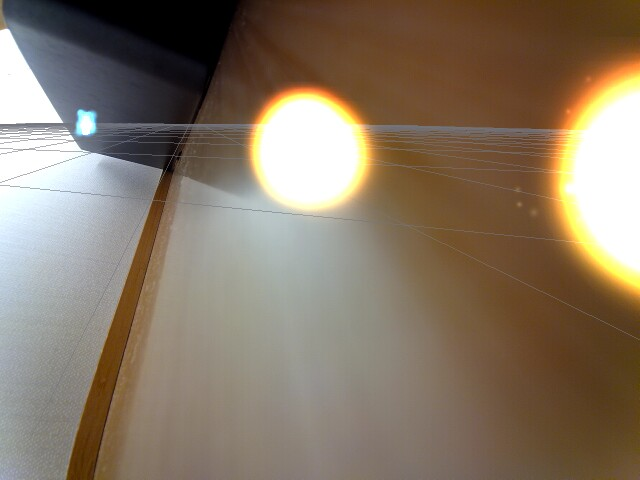firebig: (543, 43, 640, 332)
